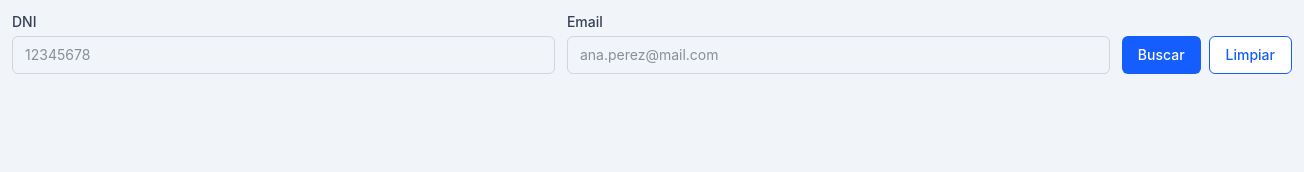
Test: CustomerSearch › solo permite escribir dígitos en el DNI
Type "12ab34" into the field labelled "DNI" at (283, 55), box [12,36,555,74]
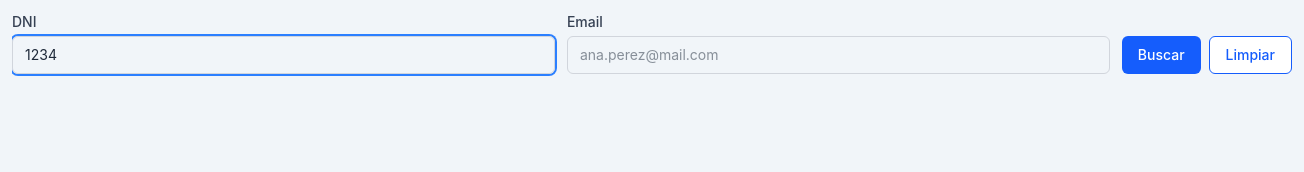
Result: the field labelled "DNI" holds "1234" at [12,36,555,74]
